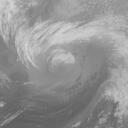cyclone: (23, 32, 85, 88)
